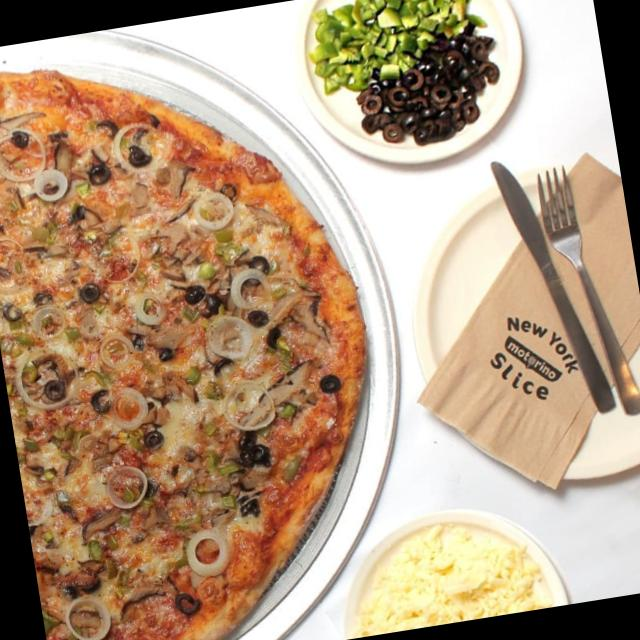black_olives: (349, 26, 516, 158), (181, 280, 222, 324), (234, 428, 268, 467), (166, 586, 200, 620), (36, 374, 66, 406), (1, 296, 28, 326), (243, 304, 270, 334), (136, 423, 164, 451), (84, 158, 110, 188), (5, 126, 34, 151), (318, 371, 346, 396), (128, 142, 152, 170), (70, 572, 99, 595), (262, 326, 286, 352), (74, 278, 97, 305), (91, 387, 112, 413), (250, 250, 272, 274), (30, 286, 51, 308), (127, 330, 146, 353)
mushrooms: (267, 278, 333, 345), (156, 154, 198, 217), (147, 368, 197, 406), (154, 239, 197, 283), (112, 578, 160, 616), (48, 134, 80, 188), (75, 508, 122, 544), (79, 204, 123, 240), (0, 103, 44, 131), (189, 472, 236, 498), (40, 237, 70, 259), (23, 460, 41, 478)
pizza: (0, 70, 369, 640)
